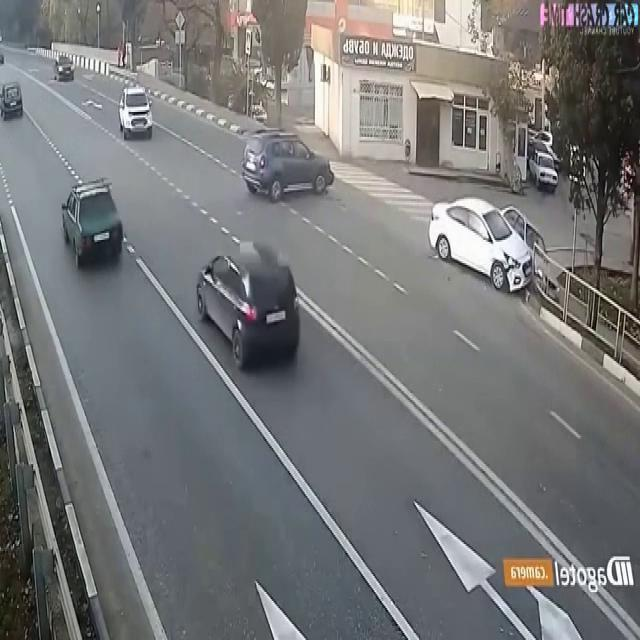accident: (425, 198, 563, 306)
non-accident: (525, 127, 565, 196)
